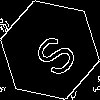S: (25, 25, 80, 81)
